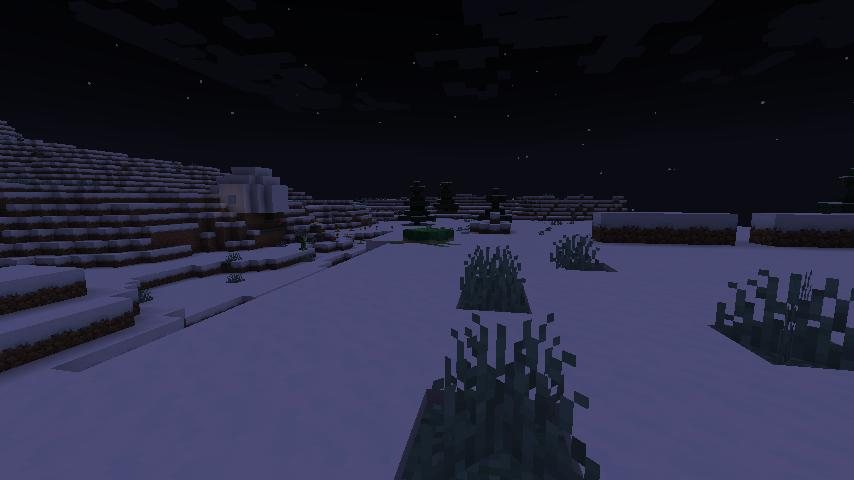creeper: (299, 235, 309, 252)
